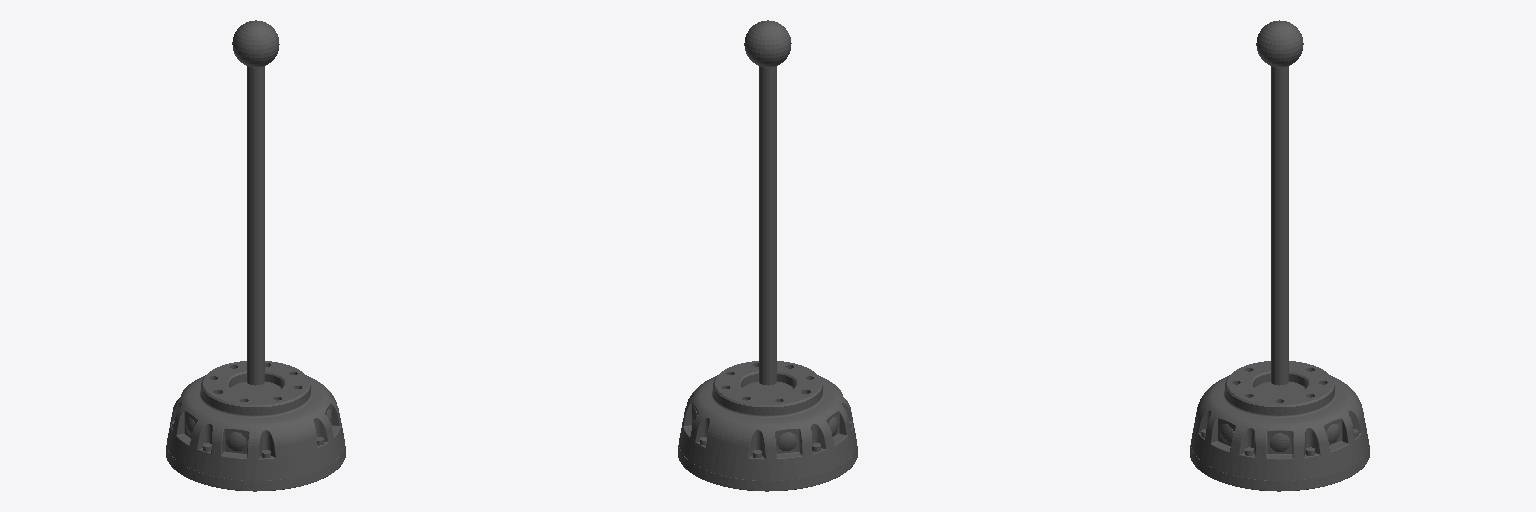
The robot description file, URDF, robot "lbr_iiwa":
<?xml version="1.0" ?>
<!-- =================================================================================== -->
<!-- |    This document was autogenerated by xacro from lbr_iiwa_urdf.xacro            | -->
<!-- |    EDITING THIS FILE BY HAND IS NOT RECOMMENDED                                 | -->
<!-- =================================================================================== -->
<robot name="lbr_iiwa">
    <!-- Basic colors -->
    <material name="black">
        <color rgba="0.0 0.0 0.0 1.0"/>
    </material>
    <material name="blue">
        <color rgba="0.0 0.0 0.8 1.0"/>
    </material>
    <material name="green">
        <color rgba="0.0 0.8 0.0 1.0"/>
    </material>
    <material name="grey">
        <color rgba="0.2 0.2 0.2 1.0"/>
    </material>
    <material name="light_grey">
        <color rgba="0.4 0.4 0.4 1.0"/>
    </material>
    <material name="red">
        <color rgba="0.8 0.0 0.0 1.0"/>
    </material>
    <material name="white">
        <color rgba="1.0 1.0 1.0 1.0"/>
    </material>
    <material name="orange" >
      <color rgba="0.9764705882352941 0.45098039215686275 0.023529411764705882 1.0" />
    </material>    

  <link name="world"/>
  <!--joint between {parent} and link_0-->
  <joint name="world_joint" type="fixed">
    <origin rpy="0 0 0" xyz="0 0 0.0"/>
    <parent link="world"/>
    <child link="lbr_iiwa_link_0"/>
  </joint>
  <link name="lbr_iiwa_link_0">
    <inertial>
      <origin rpy="0 0 0" xyz="-0.1 0 0.07"/>
      <mass value="5"/>
      <inertia ixx="0.05" ixy="0" ixz="0" iyy="0.06" iyz="0" izz="0.03"/>
    </inertial>
    <visual>
      <origin rpy="0 0 0" xyz="0 0 0"/>
      <geometry>
        <mesh filename="../meshes/link_0.stl"/>
      </geometry>
      <material name="light_grey"> 
        <color rgba="0.792156862745098 0.819607843137255 0.933333333333333 1"/>
      </material>
    </visual>
    <!--collision>
        <origin xyz="0 0 0" rpy="0 0 0"/>
        <geometry>
          <mesh filename="../meshes/coarse/link_0.obj"/>
        </geometry>
        <material name="Grey"> 
          <color rgba="0.792156862745098 0.819607843137255 0.933333333333333 1"/>
      </material>
    </collision-->

      <!--self_collision_checking>
        <origin xyz="0 0 0" rpy="0 0 0"/>
        <geometry>
          <capsule radius="0.15" length="0.25"/>
        </geometry>
      </self_collision_checking-->
  </link>
  <!-- joint between link_0 and link_1 -->
  <joint name="lbr_iiwa_joint_1" type="revolute">
    <parent link="lbr_iiwa_link_0"/>
    <child link="lbr_iiwa_link_1"/>
    <origin rpy="0 0 0" xyz="0 0 0.1575"/>
    <axis xyz="0 0 1"/>
    <limit effort="1000" lower="-2.9670597283903604" upper="2.9670597283903604" velocity="1000"/>
    <!--   <safety_controller soft_lower_limit="${-168 * M_PI / 180}"
           soft_upper_limit="${168 * M_PI / 180}"
           k_position="${safety_controller_k_pos}"
           k_velocity="${safety_controller_k_vel}"/> -->
    <dynamics damping="0.0"/>
  </joint>
  <link name="lbr_iiwa_link_1">
    <inertial>
      <origin rpy="0 0 0" xyz="0 -0.03 0.12"/>
      <mass value="4"/>
      <inertia ixx="0.1" ixy="0" ixz="0" iyy="0.09" iyz="0" izz="0.02"/>
    </inertial>
    <visual>
      <origin rpy="0 0 0" xyz="0 0 0"/>
      <geometry>
        <mesh filename="../meshes/link_1.stl"/>
      </geometry>
      <material name="orange"/> 
    </visual>
    <!--collision>
      <origin rpy="0 0 0" xyz="0 0 0"/>
      <geometry>
        <mesh filename="../meshes/coarse/link_1.obj"/>
      </geometry>
      <material name="Orange"> 
        <color rgba="0.792156862745098 0.819607843137255 0.933333333333333 1"/>
      </material>
    </collision-->
  </link>
  <!-- joint between link_1 and link_2 -->
  <joint name="lbr_iiwa_joint_2" type="revolute">
    <parent link="lbr_iiwa_link_1"/>
    <child link="lbr_iiwa_link_2"/>
    <origin rpy="1.5707963267948966   0 3.141592653589793" xyz="0 0 0.2025"/>
    <axis xyz="0 0 1"/>
    <limit effort="1000" lower="-2.0943951023931953" upper="2.0943951023931953" velocity="1000"/>
    <!-- <safety_controller soft_lower_limit="${-118 * PI / 180}"
           soft_upper_limit="${118 * PI / 180}"
           k_position="${safety_controller_k_pos}"
           k_velocity="${safety_controller_k_vel}"/> -->
    <dynamics damping="0.0"/>
  </joint>
  <link name="lbr_iiwa_link_2">
    <inertial>
      <origin rpy="0 0 0" xyz="0.0003 0.059 0.042"/>
      <mass value="4"/>
      <inertia ixx="0.05" ixy="0" ixz="0" iyy="0.018" iyz="0" izz="0.044"/>
    </inertial>
    <visual>
      <origin rpy="0 0 0" xyz="0 0 0"/>
      <geometry>
        <mesh filename="../meshes/link_2.stl"/>
      </geometry>
      <material name="orange"/> 
    </visual>
    <!--collision>
      <origin rpy="0 0 0" xyz="0 0 0"/>
      <geometry>
        <mesh filename="../meshes/coarse/link_2.obj"/>
      </geometry>
      <material name="Orange"> 
        <color rgba="0.792156862745098 0.819607843137255 0.933333333333333 1"/>
      </material>
    </collision-->
  </link>
  <!-- joint between link_2 and link_3 -->
  <joint name="lbr_iiwa_joint_3" type="revolute">
    <parent link="lbr_iiwa_link_2"/>
    <child link="lbr_iiwa_link_3"/>
    <origin rpy="1.5707963267948966 0 3.141592653589793" xyz="0 0.2045 0"/>
    <axis xyz="0 0 1"/>
    <limit effort="1000" lower="-2.9670597283903604" upper="2.9670597283903604" velocity="1000"/>
    <!-- <safety_controller soft_lower_limit="${-118 * PI / 180}"
           soft_upper_limit="${118 * PI / 180}"
           k_position="${safety_controller_k_pos}"
           k_velocity="${safety_controller_k_vel}"/> -->
    <dynamics damping="0.0"/>
  </joint>
  <link name="lbr_iiwa_link_3">
    <inertial>
      <origin rpy="0 0 0" xyz="0 0.03 0.13"/>
      <mass value="3"/>
      <inertia ixx="0.08" ixy="0" ixz="0" iyy="0.075" iyz="0" izz="0.01"/>
    </inertial>
    <visual>
      <origin rpy="0 0 0" xyz="0 0 0"/>
      <geometry>
        <mesh filename="../meshes/link_3.stl"/>
      </geometry>
      <material name="orange"/> 
    </visual>
    <!--collision>
      <origin rpy="0 0 0" xyz="0 0 0"/>
      <geometry>
        <mesh filename="../meshes/coarse/link_3.obj"/>
      </geometry>
      <material name="Orange"> 
        <color rgba="0.792156862745098 0.819607843137255 0.933333333333333 1"/>
      </material>
    </collision-->
  </link>
  <!-- joint between link_3 and link_4 -->
  <joint name="lbr_iiwa_joint_4" type="revolute">
    <parent link="lbr_iiwa_link_3"/>
    <child link="lbr_iiwa_link_4"/>
    <origin rpy="1.5707963267948966 0 0" xyz="0 0 0.2155"/>
    <axis xyz="0 0 1"/>
    <limit effort="1000" lower="-2.0943951023931953" upper="2.0943951023931953" velocity="1000"/>
    <!-- <safety_controller soft_lower_limit="${-118 * PI / 180}"
           soft_upper_limit="${118 * PI / 180}"
           k_position="${safety_controller_k_pos}"
           k_velocity="${safety_controller_k_vel}"/> -->
    <dynamics damping="0.0"/>
  </joint>
  <link name="lbr_iiwa_link_4">
    <inertial>
      <origin rpy="0 0 0" xyz="0 0.067 0.034"/>
      <mass value="2.7"/>
      <inertia ixx="0.03" ixy="0" ixz="0" iyy="0.01" iyz="0" izz="0.029"/>
    </inertial>
    <visual>
      <origin rpy="0 0 0" xyz="0 0 0"/>
      <geometry>
        <mesh filename="../meshes/link_4.stl"/>
      </geometry>
      <material name="orange"/> 
    </visual>
    <!--collision>
      <origin rpy="0 0 0" xyz="0 0 0"/>
      <geometry>
        <mesh filename="../meshes/coarse/link_4.obj"/>
      </geometry>
      <material name="Orange"> 
        <color rgba="0.792156862745098 0.819607843137255 0.933333333333333 1"/>
      </material>
    </collision-->
  </link>
  <!-- joint between link_4 and link_5 -->
  <joint name="lbr_iiwa_joint_5" type="revolute">
    <parent link="lbr_iiwa_link_4"/>
    <child link="lbr_iiwa_link_5"/>
    <origin rpy="-1.5707963267948966 3.141592653589793 0" xyz="0 0.1845 0"/>
    <axis xyz="0 0 1"/>
    <limit effort="1000" lower="-2.9670597283903604" upper="2.9670597283903604" velocity="1000"/>
    <!-- <safety_controller soft_lower_limit="${-118 * PI / 180}"
           soft_upper_limit="${118 * PI / 180}"
           k_position="${safety_controller_k_pos}"
           k_velocity="${safety_controller_k_vel}"/> -->
    <dynamics damping="0.0"/>
  </joint>
  <link name="lbr_iiwa_link_5">
    <inertial>
      <origin rpy="0 0 0" xyz="0.0001 0.021 0.076"/>
      <mass value="1.7"/>
      <inertia ixx="0.02" ixy="0" ixz="0" iyy="0.018" iyz="0" izz="0.005"/>
    </inertial>
    <visual>
      <origin rpy="0 0 0" xyz="0 0 0"/>
      <geometry>
        <mesh filename="../meshes/link_5.stl"/>
      </geometry>
      <material name="orange"/> 
    </visual>
    <!--collision>
      <origin rpy="0 0 0" xyz="0 0 0"/>
      <geometry>
        <mesh filename="../meshes/coarse/link_5.obj"/>
      </geometry>
      <material name="Orange"> 
        <color rgba="0.792156862745098 0.819607843137255 0.933333333333333 1"/>
      </material>
    </collision-->
  </link>
  <!-- joint between link_5 and link_6 -->
  <joint name="lbr_iiwa_joint_6" type="revolute">
    <parent link="lbr_iiwa_link_5"/>
    <child link="lbr_iiwa_link_6"/>
    <origin rpy="1.5707963267948966 0 0" xyz="0 0 0.2155"/>
    <axis xyz="0 0 1"/>
    <limit effort="1000" lower="-2.0943951023931953" upper="2.0943951023931953" velocity="1000"/>
    <!-- <safety_controller soft_lower_limit="${-118 * PI / 180}"
           soft_upper_limit="${118 * PI / 180}"
           k_position="${safety_controller_k_pos}"
           k_velocity="${safety_controller_k_vel}"/> -->
    <dynamics damping="0.0"/>
  </joint>
  <link name="lbr_iiwa_link_6">
    <inertial>
      <origin rpy="0 0 0" xyz="0 0.0006 0.0004"/>
      <mass value="1.8"/>
      <inertia ixx="0.005" ixy="0" ixz="0" iyy="0.0036" iyz="0" izz="0.0047"/>
    </inertial>
    <visual>
      <origin rpy="0 0 0" xyz="0 0 0"/>
      <geometry>
        <mesh filename="../meshes/link_6.stl"/>
      </geometry>
      <material name="orange"/> 
    </visual>
    <!--collision>
      <origin rpy="0 0 0" xyz="0 0 0"/>
      <geometry>
        <mesh filename="../meshes/coarse/link_6.obj"/>
      </geometry>
      <material name="Orange"> 
        <color rgba="0.792156862745098 0.819607843137255 0.933333333333333 1"/>
      </material>
    </collision-->
  </link>
  <!-- joint between link_6 and link_7 -->
  <joint name="lbr_iiwa_joint_7" type="revolute">
    <parent link="lbr_iiwa_link_6"/>
    <child link="lbr_iiwa_link_7"/>
    <origin rpy="-1.5707963267948966 3.141592653589793 0" xyz="0 0.081 0"/>
    <axis xyz="0 0 1"/>
    <limit effort="1000" lower="-3.0543261909900763" upper="3.0543261909900763" velocity="1000"/>
    <!-- <safety_controller soft_lower_limit="${-118 * PI / 180}"
           soft_upper_limit="${118 * PI / 180}"
           k_position="${safety_controller_k_pos}"
           k_velocity="${safety_controller_k_vel}"/> -->
    <dynamics damping="0.0"/>
  </joint>
  <link name="lbr_iiwa_link_7">
    <inertial>
      <origin rpy="0 0 0" xyz="0 0 0.02"/>
      <mass value="0.3"/>
      <inertia ixx="0.001" ixy="0" ixz="0" iyy="0.001" iyz="0" izz="0.001"/>
    </inertial>
    <visual>
      <origin rpy="0 0 0" xyz="0 0 0"/>
      <geometry>
        <mesh filename="../meshes/link_7_pusher.stl"/>
      </geometry>
      <material name="light_grey"/> 
    </visual>
    <!--collision>
      <origin rpy="0 0 0" xyz="0.006 -0.006 0.26"/>
      <geometry>
        <sphere radius="0.01"/>
      </geometry>
      <material name="Grey"> 
        <color rgba="0.792156862745098 0.819607843137255 0.933333333333333 1"/>
      </material>
    </collision-->
  </link>
</robot>

--- Facts derived from the render (not from the file) ---
The picture shows the robot from 3 angles, left to right: view 1: azimuth 30°, elevation 25°; view 2: azimuth 150°, elevation 25°; view 3: azimuth 270°, elevation 25°; orthographic projection.
Robot: lbr_iiwa — 9 links, 8 joints (7 revolute, 1 fixed); root link world; default pose: every joint at zero.
Visible links, largest first — view 1: lbr_iiwa_link_7; view 2: lbr_iiwa_link_7; view 3: lbr_iiwa_link_7.
Boxes of the visible links, x1,y1,x2,y2 form: lbr_iiwa_link_7: [166, 20, 345, 491]; lbr_iiwa_link_7: [678, 20, 857, 491]; lbr_iiwa_link_7: [1190, 20, 1369, 491].
Bounding box of the posed robot: 0.1039 × 0.1039 × 0.2835 m (x, y, z).
Meshes: 8 distinct files referenced, 1 mesh visuals loaded (1 binary STL); not drawn: 7 (reference not matched to a file when rendering).